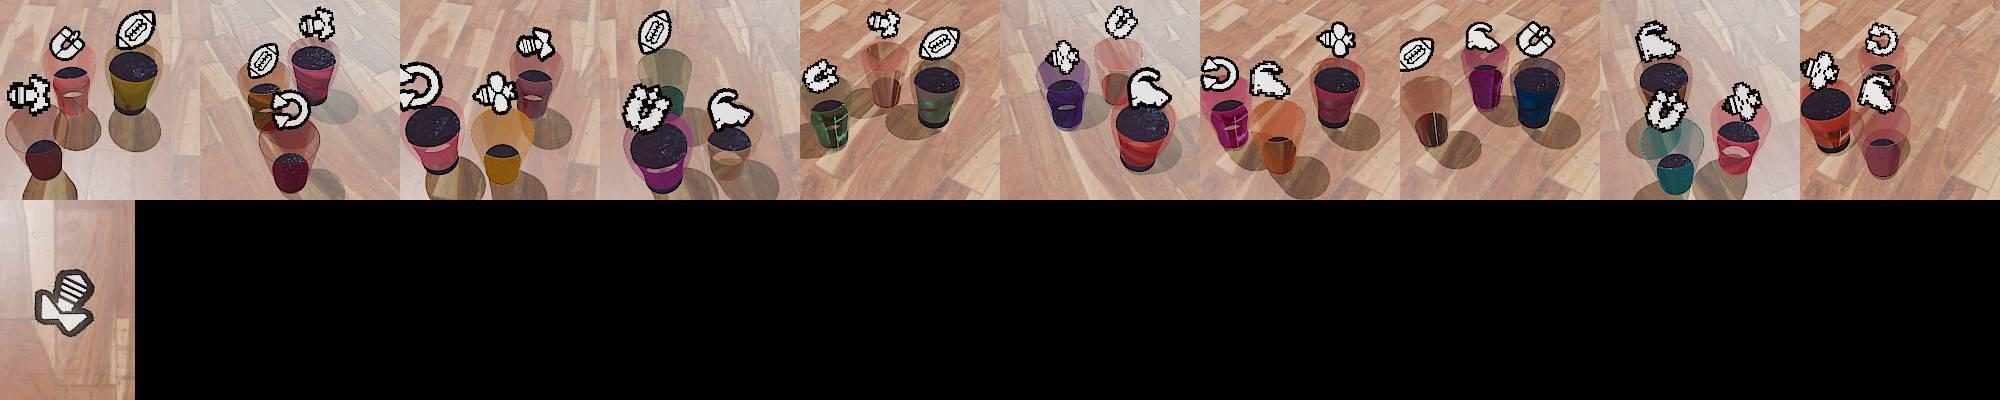icon: (33, 267, 97, 336), (622, 82, 674, 134), (400, 60, 444, 112), (472, 69, 520, 115), (5, 72, 55, 116), (707, 87, 753, 134), (1634, 20, 1682, 64), (1126, 65, 1173, 109), (1646, 87, 1690, 131), (636, 9, 674, 57), (1798, 49, 1841, 91), (1856, 71, 1898, 113), (114, 10, 156, 52), (269, 89, 311, 130), (916, 25, 961, 62), (1248, 59, 1289, 99), (1725, 80, 1763, 120), (1516, 20, 1556, 58), (1317, 20, 1356, 58), (515, 26, 556, 62), (801, 58, 840, 94), (298, 6, 337, 42), (1044, 39, 1081, 76), (49, 25, 86, 62), (1200, 55, 1237, 92), (247, 42, 280, 81), (1864, 21, 1900, 56), (1399, 36, 1433, 72), (1465, 21, 1502, 53), (1104, 5, 1138, 39), (866, 8, 902, 40)
